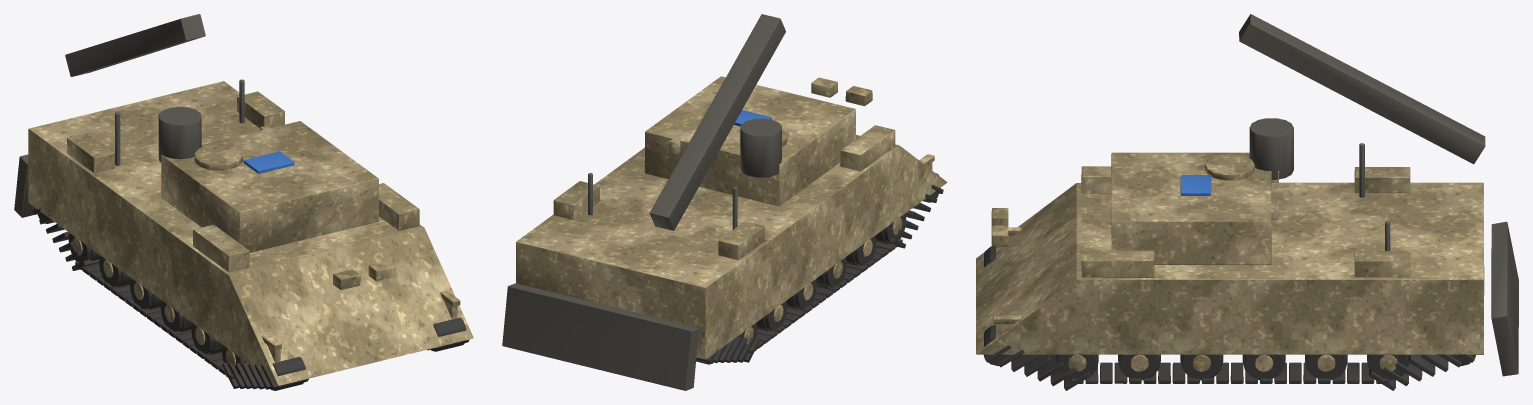
Rendered from eng_e4_us_repair_LOD1.glb.
3 renders of one model, left to right at view 1: azimuth 30°, elevation 25°; view 2: azimuth 150°, elevation 25°; view 3: azimuth 270°, elevation 25°, orthographic. The views are drawn at different scales.
Visible parts, largest first — view 1: eng_e4_us_repair_LOD1_body, eng_e4_us_repair_LOD1_track, eng_e4_us_repair_LOD1_deck, eng_e4_us_repair_LOD1_team, eng_e4_us_repair_LOD1_gun; view 2: eng_e4_us_repair_LOD1_body, eng_e4_us_repair_LOD1_deck, eng_e4_us_repair_LOD1_track, eng_e4_us_repair_LOD1_gun; view 3: eng_e4_us_repair_LOD1_body, eng_e4_us_repair_LOD1_deck, eng_e4_us_repair_LOD1_track, eng_e4_us_repair_LOD1_team, eng_e4_us_repair_LOD1_gun.
Part boxes in pixels (x1,y1,x2,y2): eng_e4_us_repair_LOD1_body: (28,81,473,385); eng_e4_us_repair_LOD1_track: (33,208,469,390); eng_e4_us_repair_LOD1_deck: (14,14,205,217); eng_e4_us_repair_LOD1_team: (243,151,294,173); eng_e4_us_repair_LOD1_gun: (115,79,244,165); eng_e4_us_repair_LOD1_body: (516,76,947,359); eng_e4_us_repair_LOD1_deck: (502,14,785,390); eng_e4_us_repair_LOD1_track: (696,173,943,364); eng_e4_us_repair_LOD1_gun: (588,173,737,229); eng_e4_us_repair_LOD1_body: (976,152,1484,371); eng_e4_us_repair_LOD1_deck: (1239,14,1518,376); eng_e4_us_repair_LOD1_track: (983,246,1475,390); eng_e4_us_repair_LOD1_team: (1180,175,1211,195); eng_e4_us_repair_LOD1_gun: (1359,143,1390,250).
Bounding box in the file's own units: 3.3 × 4.74 × 7.79.
5 materials, 1 textured.
